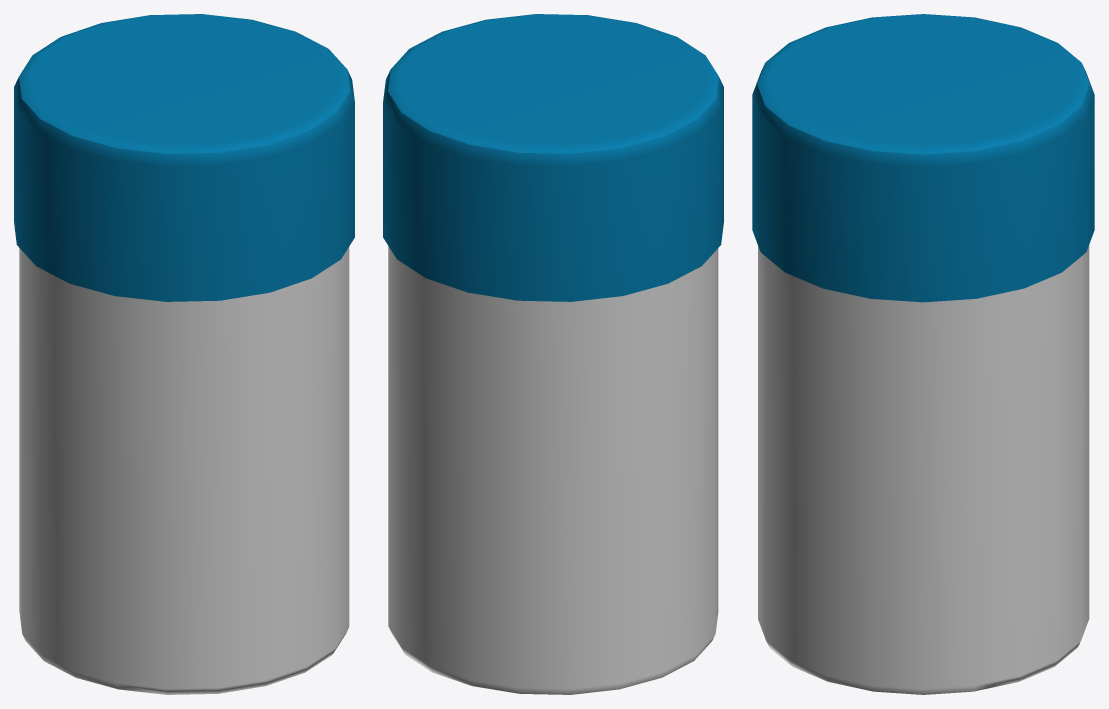
File: PillsCaseCover.fbx
3 views of the same model, side by side, from view 1: azimuth 30°, elevation 25°; view 2: azimuth 150°, elevation 25°; view 3: azimuth 270°, elevation 25° (orthographic).
Parts seen in each view (by area): view 1: PillsCaseCover; view 2: PillsCaseCover; view 3: PillsCaseCover.
Part boxes in pixels (bbox=[...]): PillsCaseCover: bbox=[14, 14, 354, 694]; PillsCaseCover: bbox=[383, 14, 723, 694]; PillsCaseCover: bbox=[752, 14, 1094, 694].
Size of the model in its own units: 3.83 by 6.79 by 3.83.
